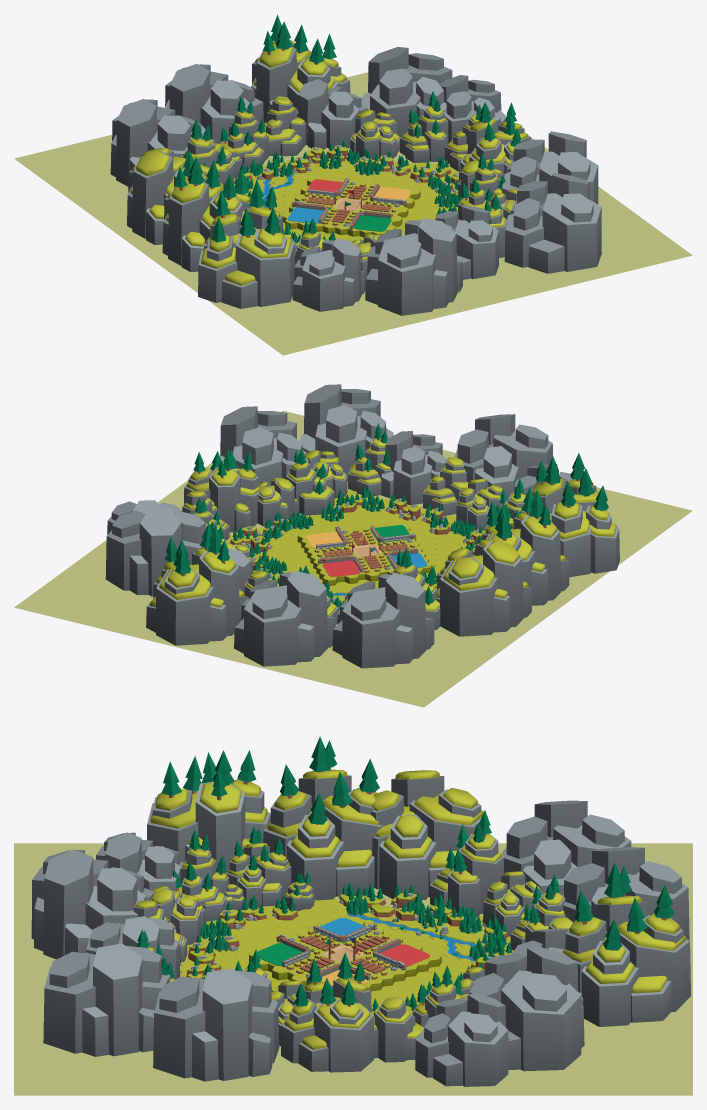
File: glb_scene.glb
3 renders of one model, top to bottom at view 1: azimuth 30°, elevation 25°; view 2: azimuth 150°, elevation 25°; view 3: azimuth 270°, elevation 25°, orthographic. The views are drawn at different scales.
Parts seen in each view (by area): view 1: Plane, mountain_C_grass_trees__4_, mountain_C__5_, mountain_C__9_, mountain_C_grass_trees__3_, mountain_C_grass_trees, mountain_C__4_, mountain_C, mountain_C__8_, mountain_C__2_, mountain_C__6_, mountain_C_grass__2_ (+13 smaller); view 2: Plane, mountain_C_grass_trees, mountain_C__2_, mountain_C, mountain_C_grass__2_, mountain_C_grass_trees__4_, mountain_C__4_, mountain_C__9_, mountain_C_grass_trees__3_, mountain_C__5_, mountain_C__6_, mountain_C_grass_trees__1_ (+14 smaller); view 3: Plane, mountain_C_grass_trees, mountain_C__6_, mountain_C_grass_trees__3_, mountain_C__5_, mountain_C__4_, mountain_C_grass__2_, mountain_C_grass_trees__4_, mountain_C__9_, mountain_C_grass_trees__1_, mountain_C__3_, mountain_C__2_ (+17 smaller).
Part boxes in pixels (box(x1,y1,x2,y2)): Plane: box(14, 72, 692, 355); mountain_C_grass_trees__4_: box(198, 179, 294, 308); mountain_C__5_: box(504, 173, 601, 273); mountain_C__9_: box(365, 218, 462, 315); mountain_C_grass_trees__3_: box(162, 150, 250, 271); mountain_C_grass_trees: box(251, 15, 350, 122); mountain_C__4_: box(361, 47, 452, 137); mountain_C: box(164, 64, 263, 143); mountain_C__8_: box(292, 238, 365, 311); mountain_C__2_: box(110, 99, 203, 186); mountain_C__6_: box(502, 131, 598, 204); mountain_C_grass__2_: box(127, 148, 223, 244); Plane: box(14, 410, 692, 707); mountain_C_grass_trees: box(146, 523, 247, 645); mountain_C__2_: box(332, 572, 434, 668); mountain_C: box(234, 570, 335, 666); mountain_C_grass__2_: box(435, 539, 531, 636); mountain_C_grass_trees__4_: box(532, 453, 619, 577); mountain_C__4_: box(105, 508, 205, 596); mountain_C__9_: box(454, 414, 552, 499); mountain_C_grass_trees__3_: box(474, 487, 569, 605); mountain_C__5_: box(300, 384, 393, 481); mountain_C__6_: box(220, 406, 308, 485); mountain_C_grass_trees__1_: box(184, 449, 260, 532); Plane: box(14, 843, 692, 1095); mountain_C_grass_trees: box(562, 862, 690, 1026); mountain_C__6_: box(153, 968, 279, 1081); mountain_C_grass_trees__3_: box(263, 736, 382, 900); mountain_C__5_: box(43, 943, 168, 1056); mountain_C__4_: box(464, 946, 584, 1071); mountain_C_grass__2_: box(370, 770, 487, 899); mountain_C_grass_trees__4_: box(147, 750, 270, 873); mountain_C__9_: box(31, 849, 154, 959); mountain_C_grass_trees__1_: box(281, 952, 373, 1072); mountain_C__3_: box(415, 993, 509, 1086); mountain_C__2_: box(501, 800, 631, 895).
Bounding box in the file's own units: 36.22 × 8.95 × 40.74.
Materials: 43 (42 with a texture image).
